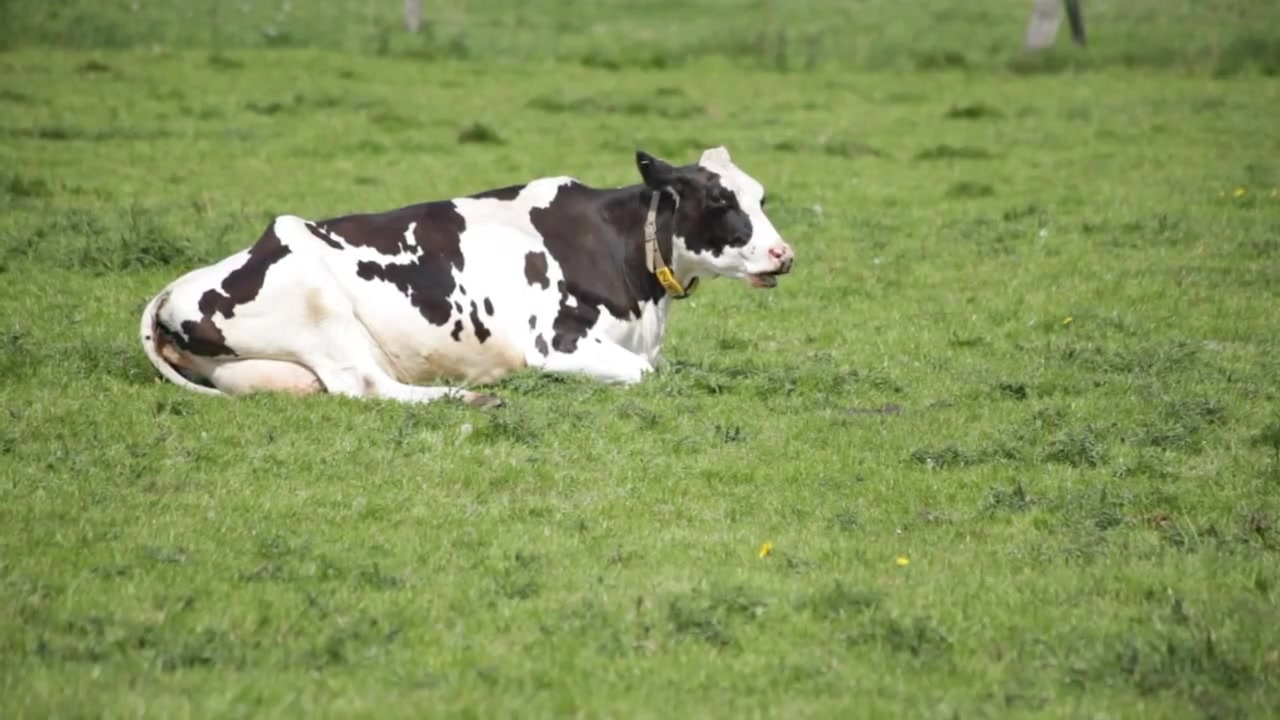cow: (142, 142, 800, 411)
